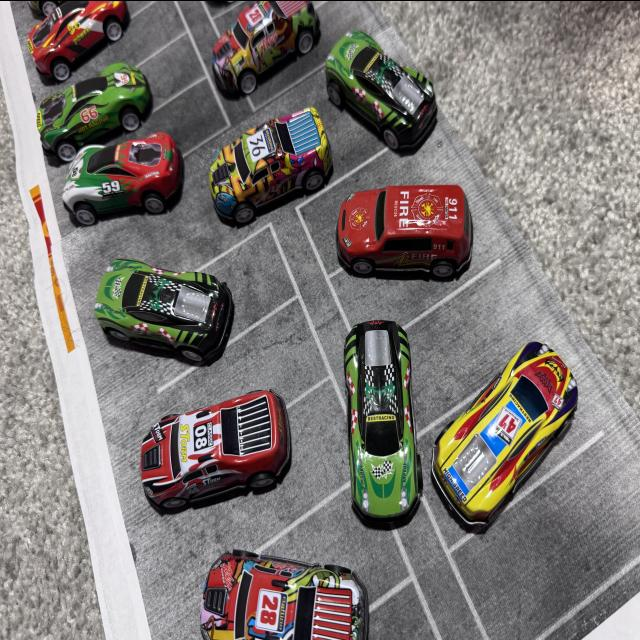Car: (445, 320, 597, 538), (325, 153, 518, 294), (169, 0, 319, 176), (84, 253, 273, 381), (193, 537, 412, 640), (205, 88, 339, 255), (122, 382, 273, 524), (320, 12, 458, 162), (40, 114, 177, 242), (345, 337, 413, 552), (36, 84, 146, 172), (40, 0, 129, 100)
